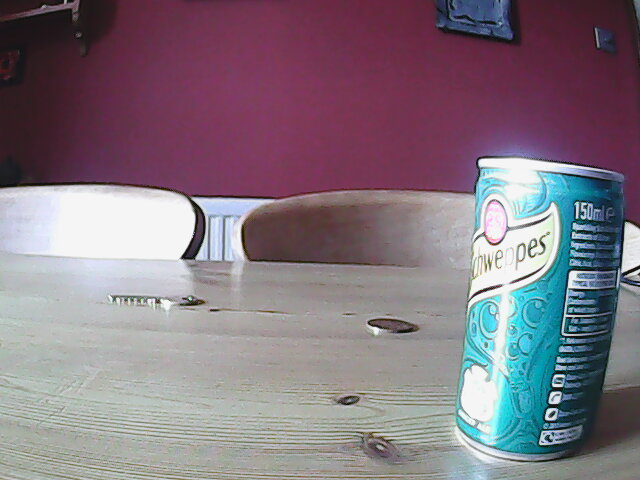Can: (450, 154, 629, 466)
Coin: (365, 317, 418, 335)
Key: (98, 290, 205, 310)
